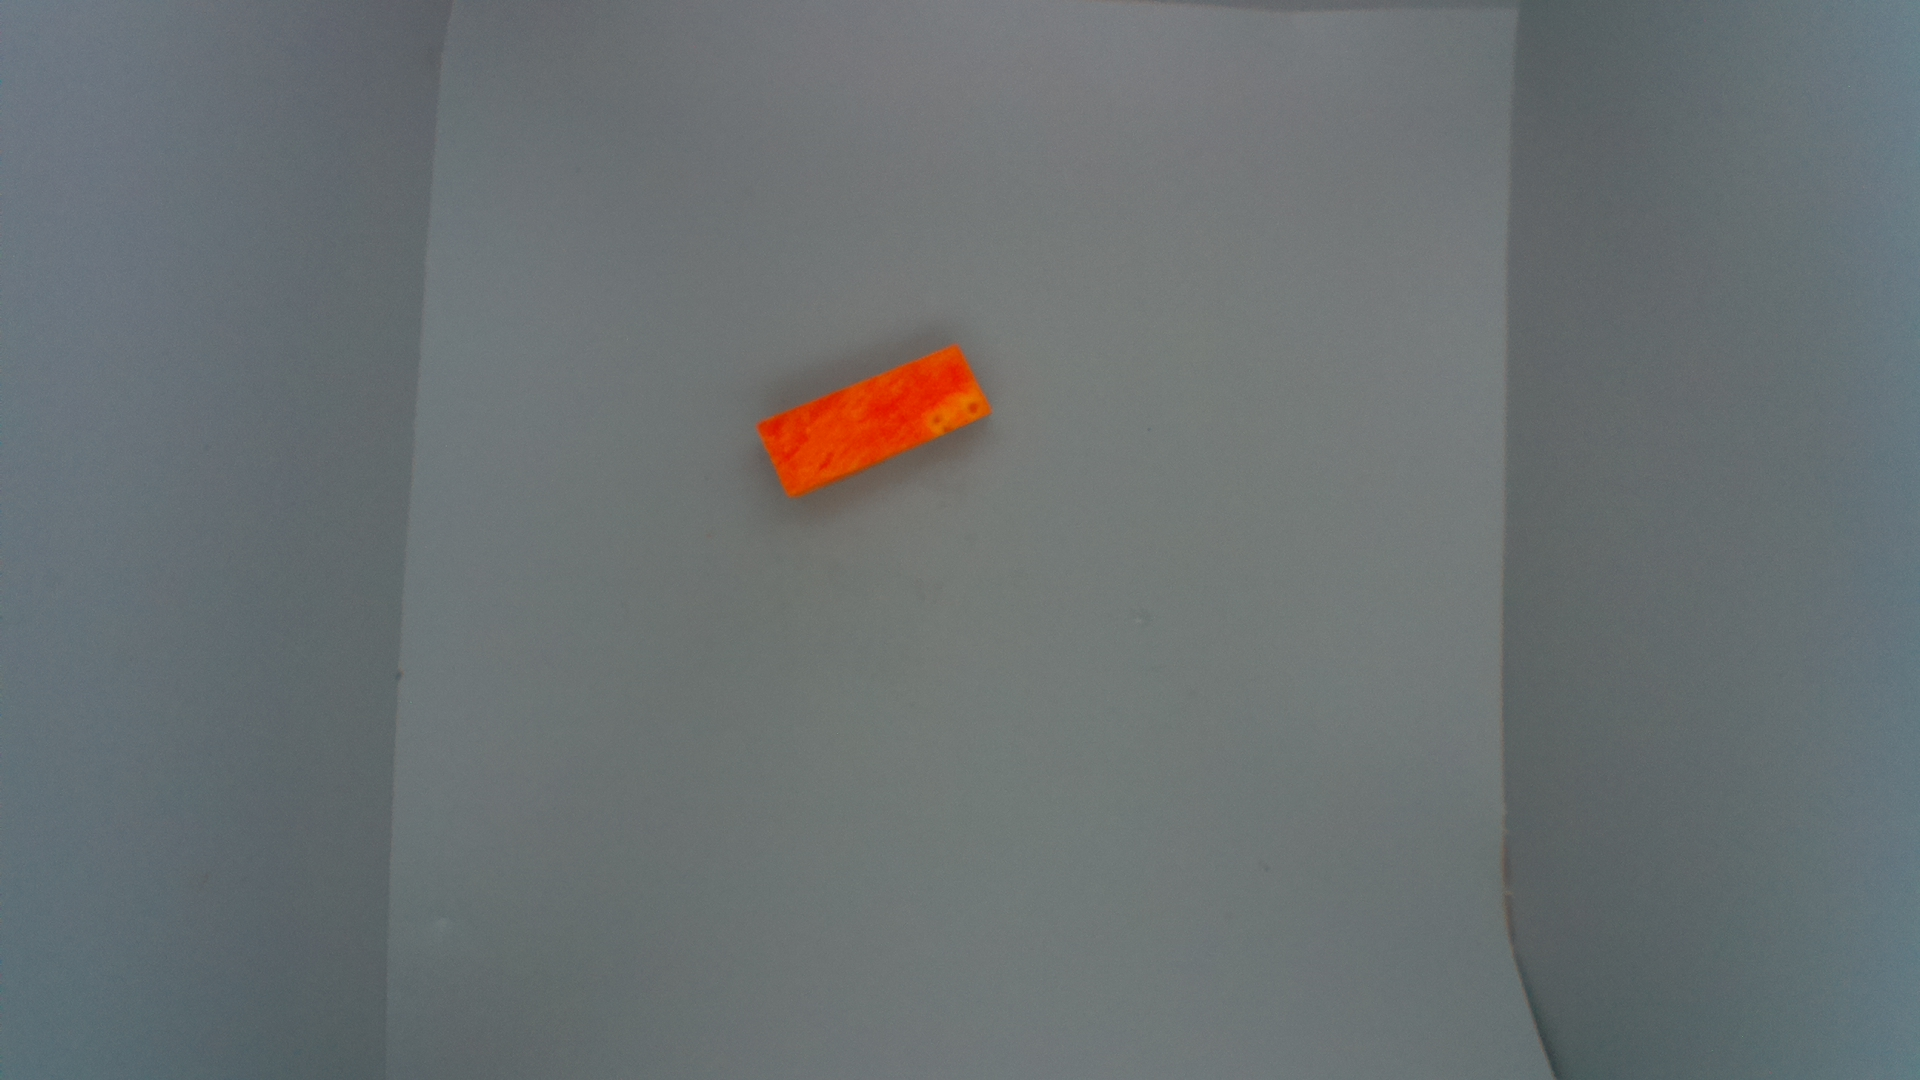carrot: (760, 342, 988, 501)
